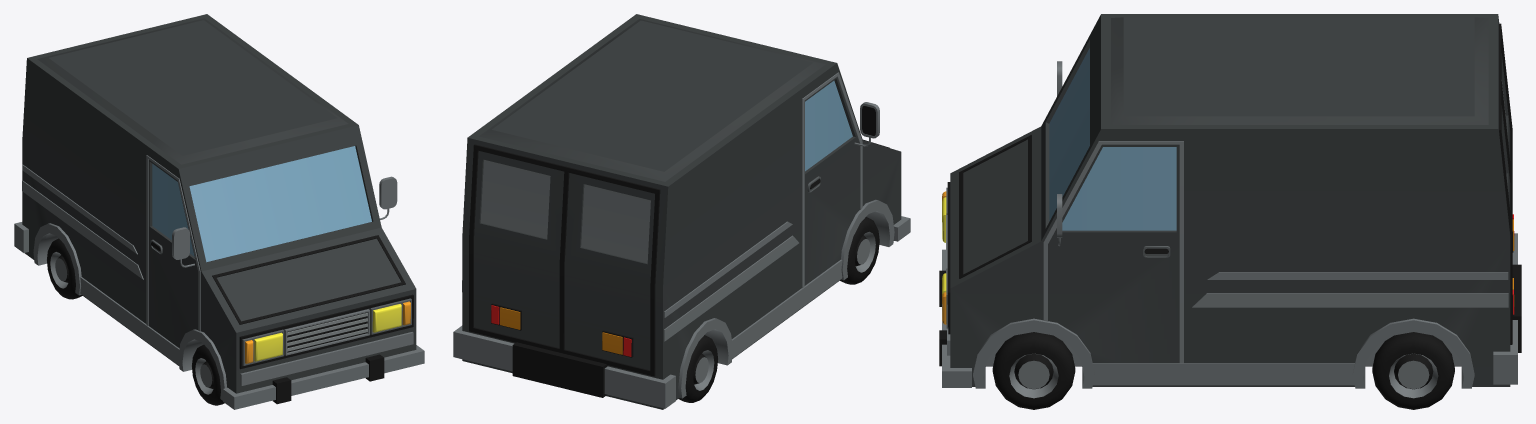
File: Car 10.fbx
The picture shows the model from 3 angles, left to right: view 1: azimuth 30°, elevation 25°; view 2: azimuth 150°, elevation 25°; view 3: azimuth 270°, elevation 25°; orthographic projection. The views are drawn at different scales.
Parts seen in each view (by area): view 1: Car 10; view 2: Car 10; view 3: Car 10.
Boxes of the visible parts, x1=… form: Car 10: x1=14, y1=14, x2=424, y2=409; Car 10: x1=453, y1=14, x2=910, y2=409; Car 10: x1=939, y1=14, x2=1521, y2=409.
Size of the model in its own units: 307 by 291 by 531.
1 material, 1 textured.
